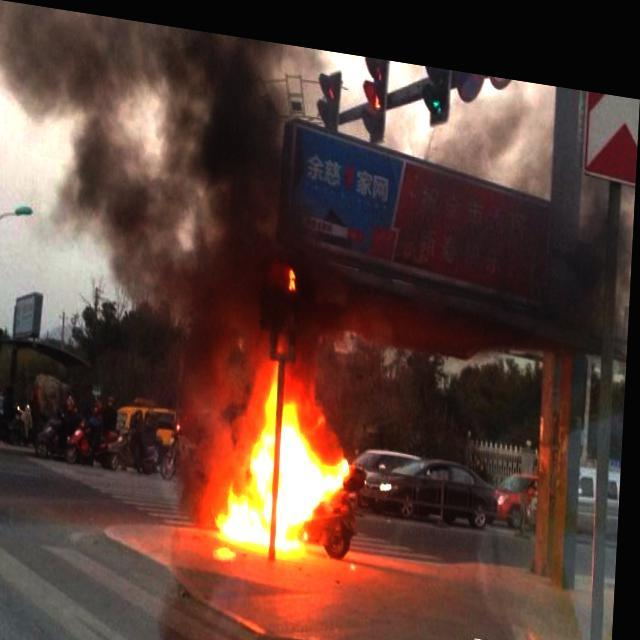Fire: (212, 354, 365, 566)
